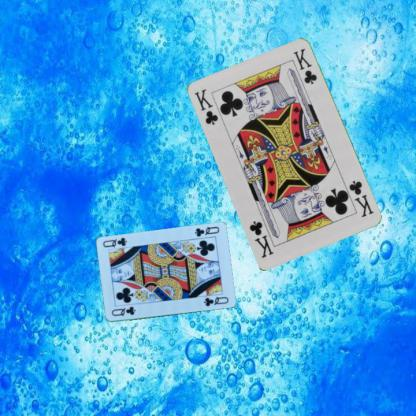Kc: (346, 178, 375, 218), (191, 86, 219, 126)
Qc: (192, 224, 220, 238), (109, 304, 136, 317)
